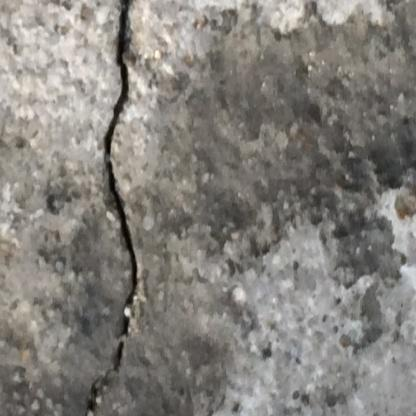Cracks: (83, 0, 143, 415)
